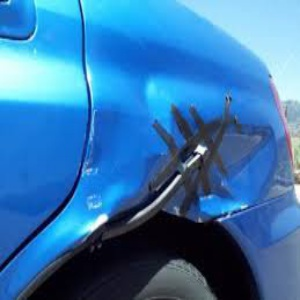bumper: (126, 78, 284, 222)
